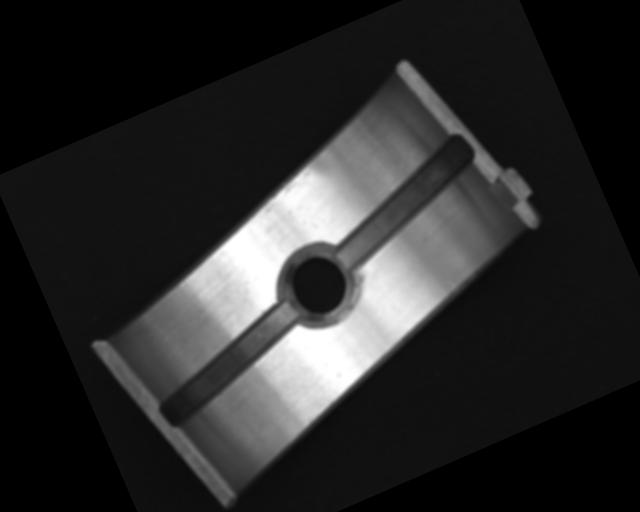gap: (313, 134, 493, 274), (138, 299, 317, 431)
hole: (265, 232, 370, 341)
